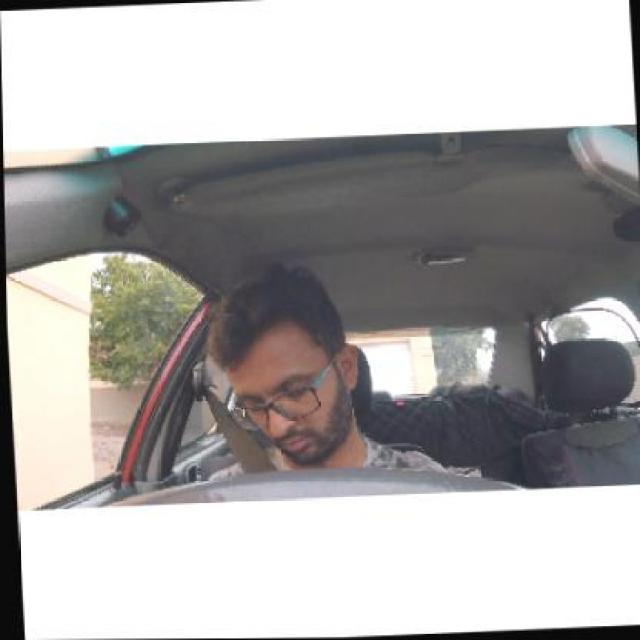drowsy: (190, 271, 390, 478)
